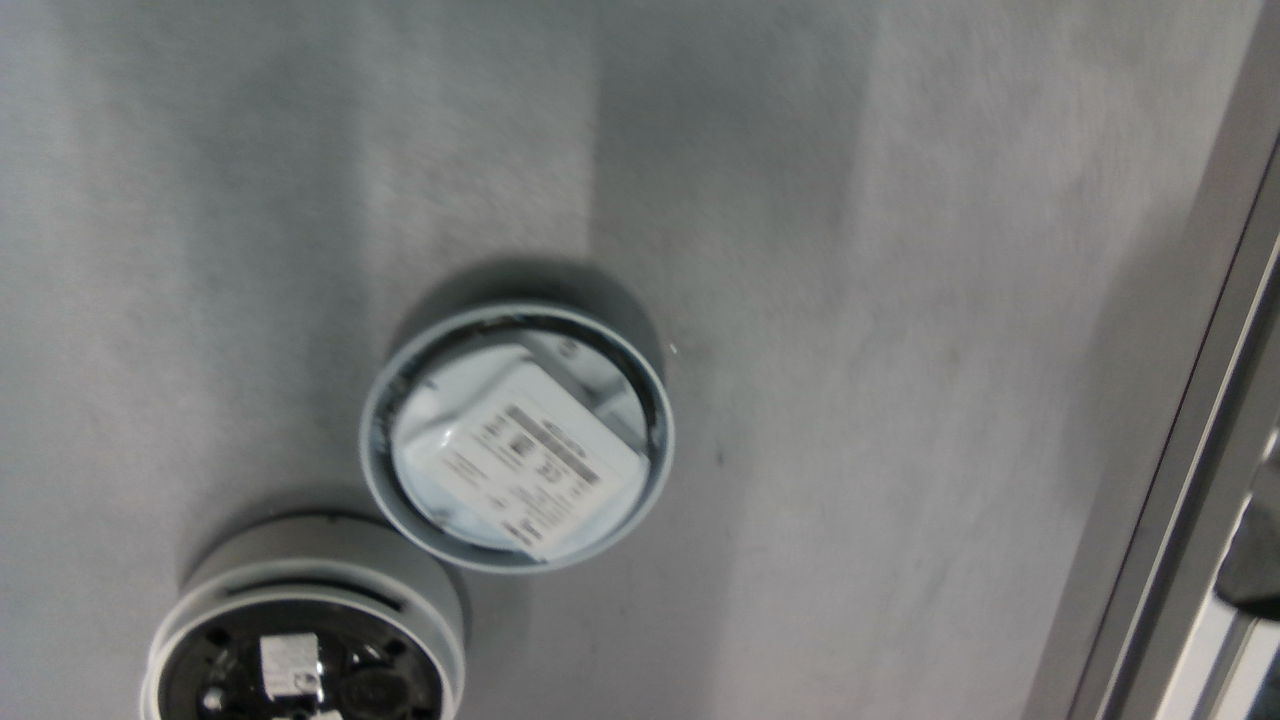HexScrew: (430, 506, 450, 528), (558, 342, 578, 360)
